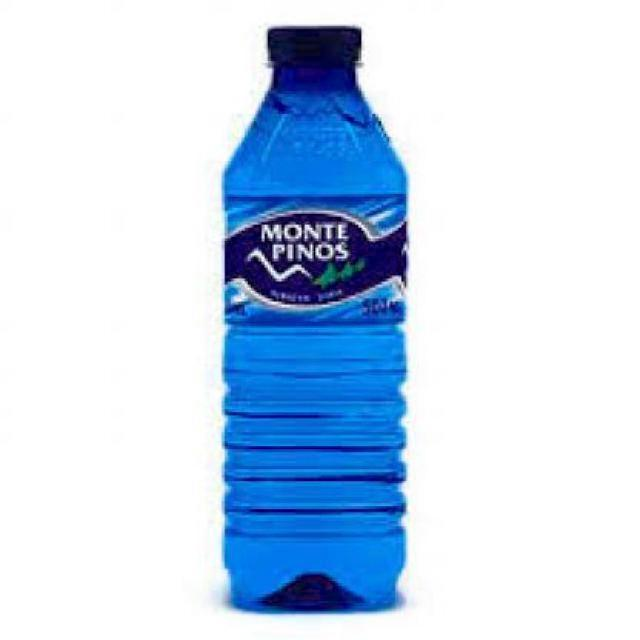bottle: (221, 24, 410, 616)
